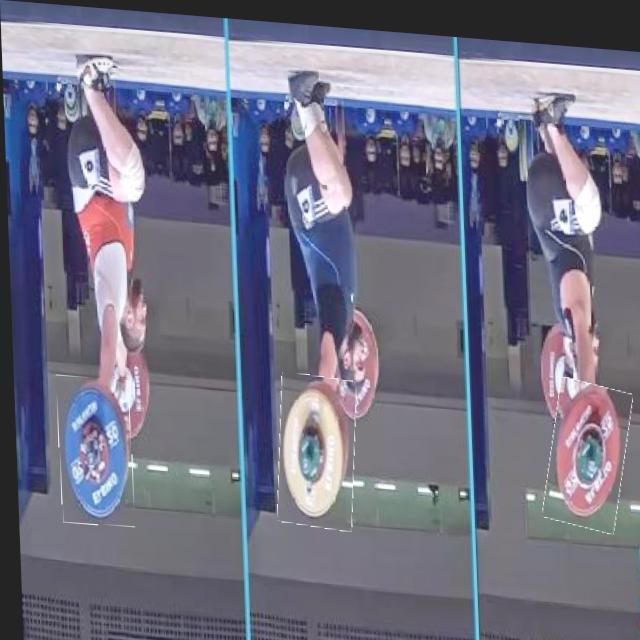barbell: (542, 369, 630, 524), (273, 369, 356, 527), (54, 374, 132, 527)
